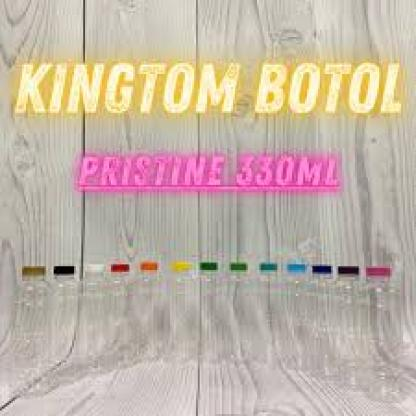Glass Bottle: (359, 261, 406, 400), (276, 254, 323, 390), (40, 261, 87, 395), (70, 256, 115, 394), (7, 262, 51, 401), (212, 257, 264, 374), (98, 252, 140, 383), (331, 262, 373, 393), (162, 254, 207, 374), (245, 256, 288, 378), (303, 263, 344, 383), (191, 257, 231, 375), (130, 259, 170, 375)
